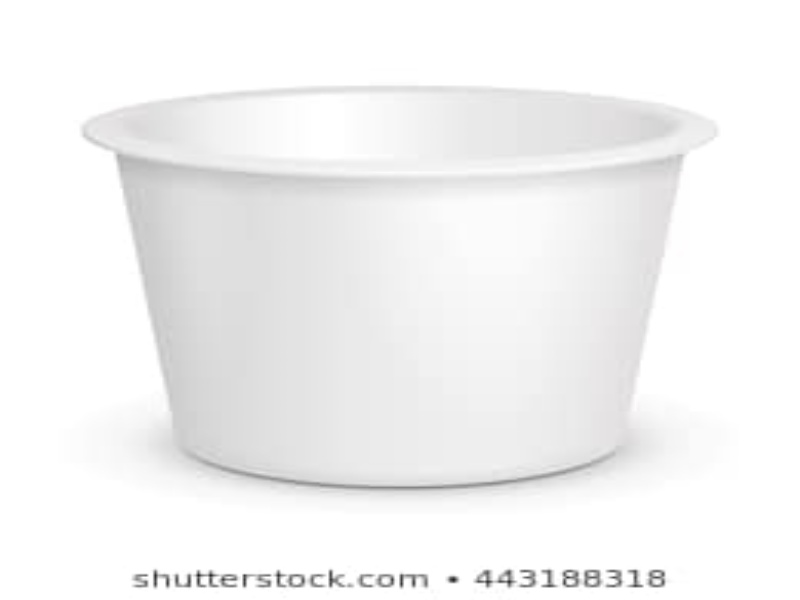yogurt-cup: (78, 83, 724, 489)
